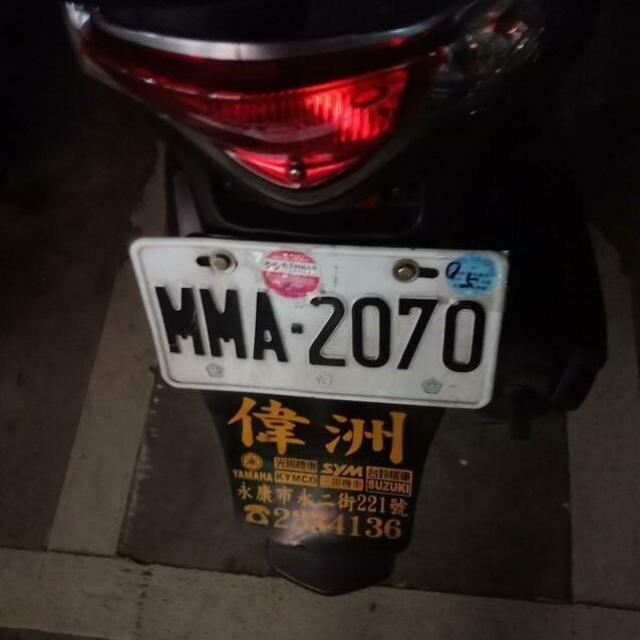W: (126, 215, 522, 426)
